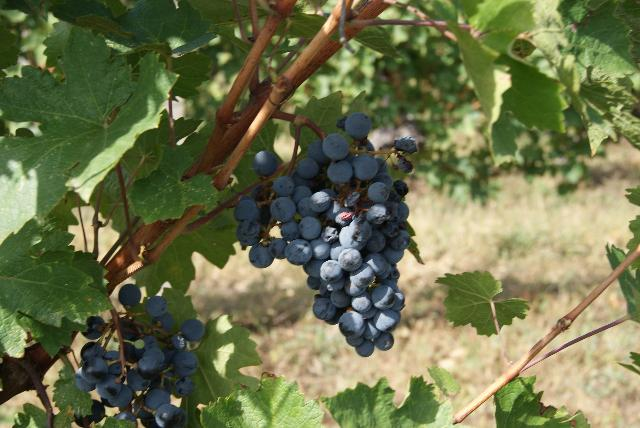grapes: (234, 112, 416, 356), (75, 284, 205, 428)
